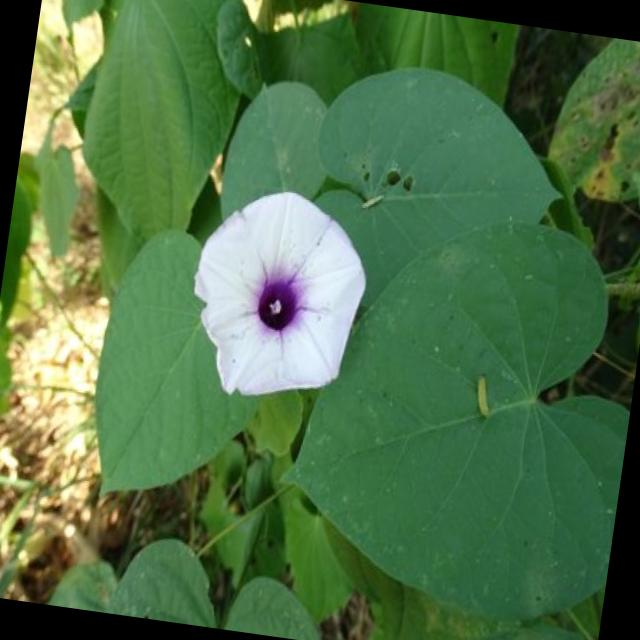ipomoea: (176, 176, 380, 417)
